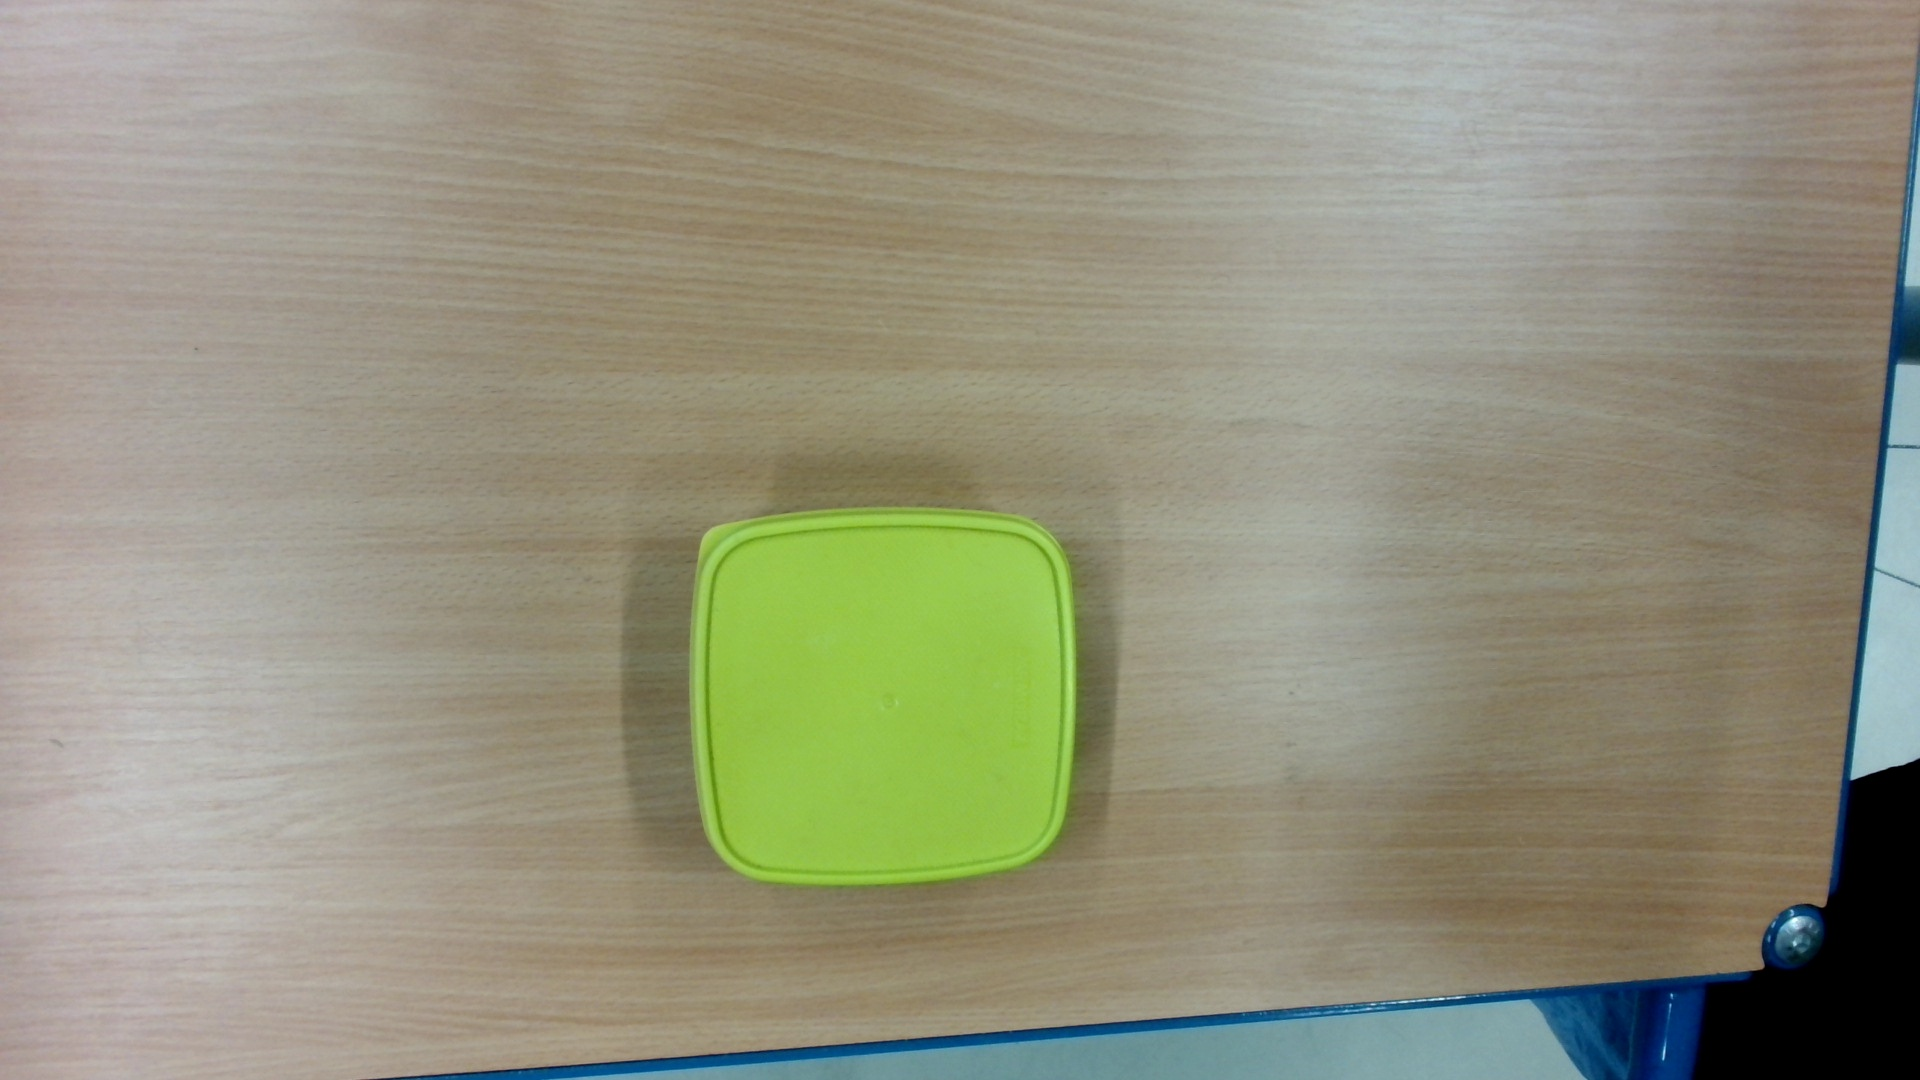Box: (674, 497, 1088, 901)
